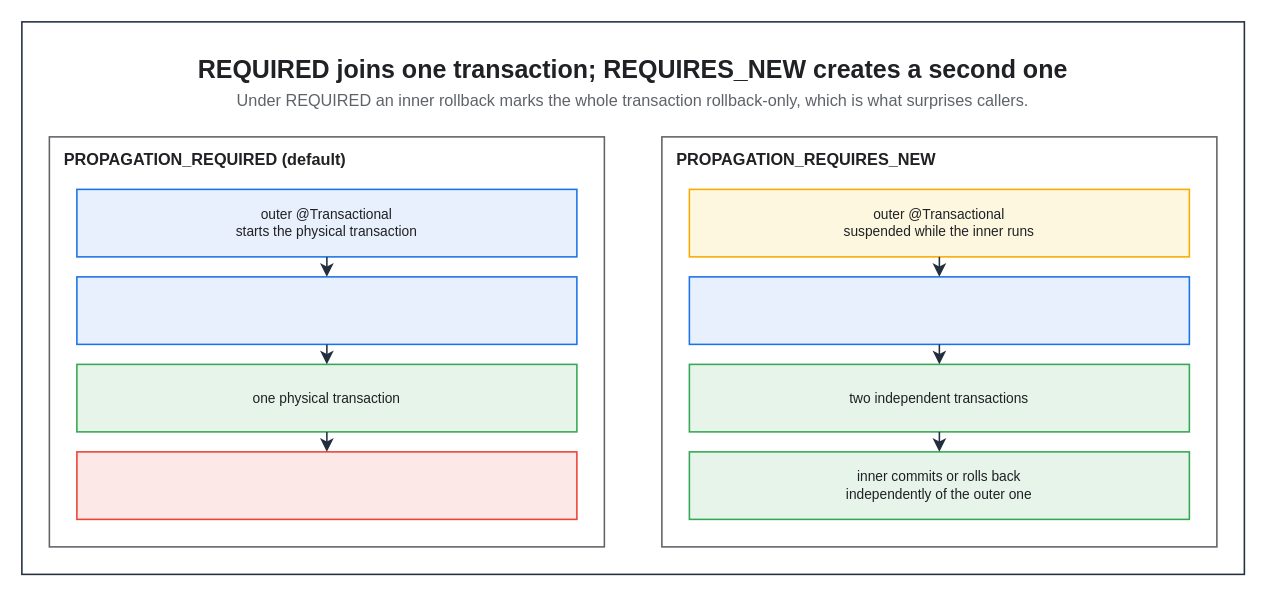
Some shapes in this 1268 by 598 pixel diagram are drawn without their labels. Each missing label, with the centre of its shape:
inner @Transactional (REQUIRED) joins the existing one: point 326,310
inner @Transactional (REQUIRES_NEW) its own physical transaction: point 939,310
inner rollback marks the whole transaction rollback-only: point 326,485
